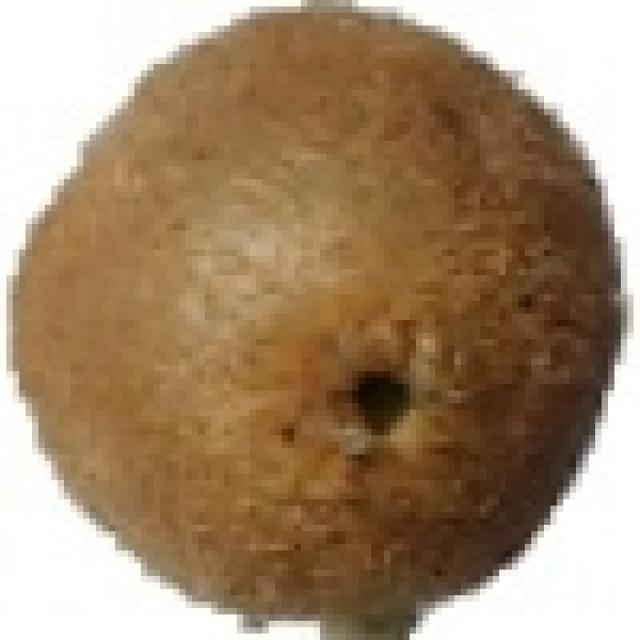kiwi: (18, 17, 619, 637)
